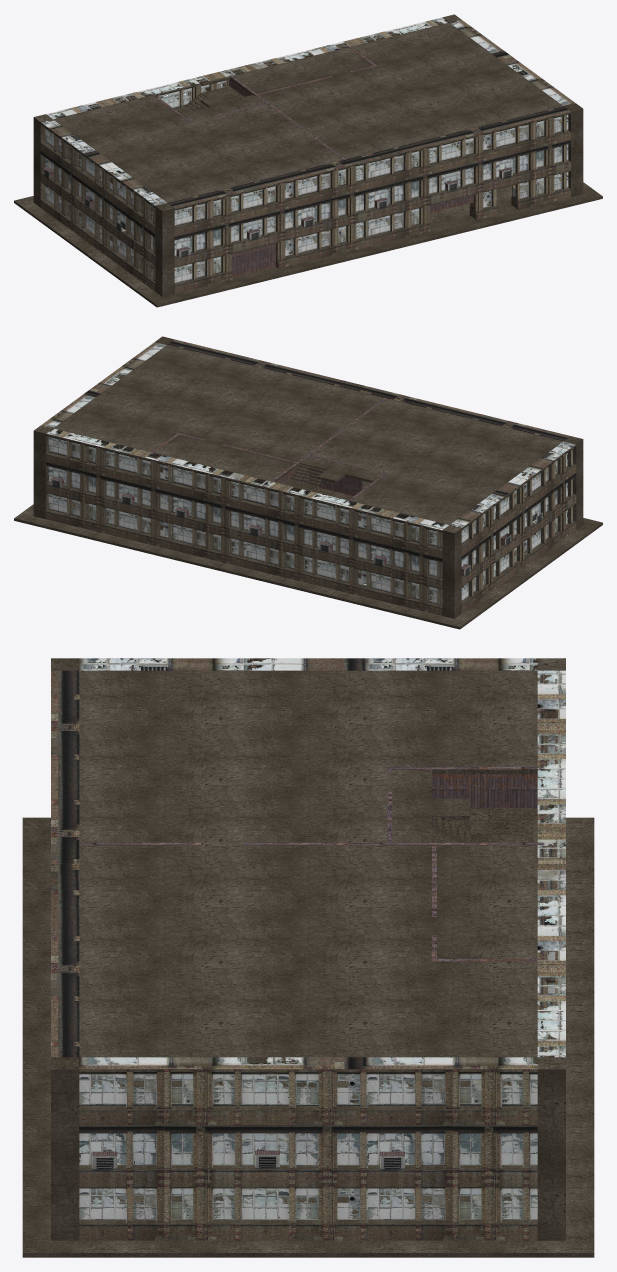
Rendered from BagSS08base_high.fbx.
3 views of the same model, one above another, from view 1: azimuth 30°, elevation 25°; view 2: azimuth 150°, elevation 25°; view 3: azimuth 270°, elevation 25° (orthographic). The views are drawn at different scales.
Visible parts, largest first — view 1: Basefloor700, baseMain700, baseDoorMetal700; view 2: Basefloor700, baseMain700, baseDoorMetal700; view 3: Basefloor700, baseMain700, baseDoorMetal700.
Part boxes in pixels (x1,y1,x2,y2): Basefloor700: (14,14,602,307); baseMain700: (40,17,575,293); baseDoorMetal700: (44,45,512,277); Basefloor700: (14,336,602,629); baseMain700: (41,339,576,615); baseDoorMetal700: (51,397,510,576); Basefloor700: (22,658,594,1257); baseMain700: (51,658,565,1240); baseDoorMetal700: (79,767,544,1161).
Size of the model in its own units: 64.54 by 12.17 by 35.84.
